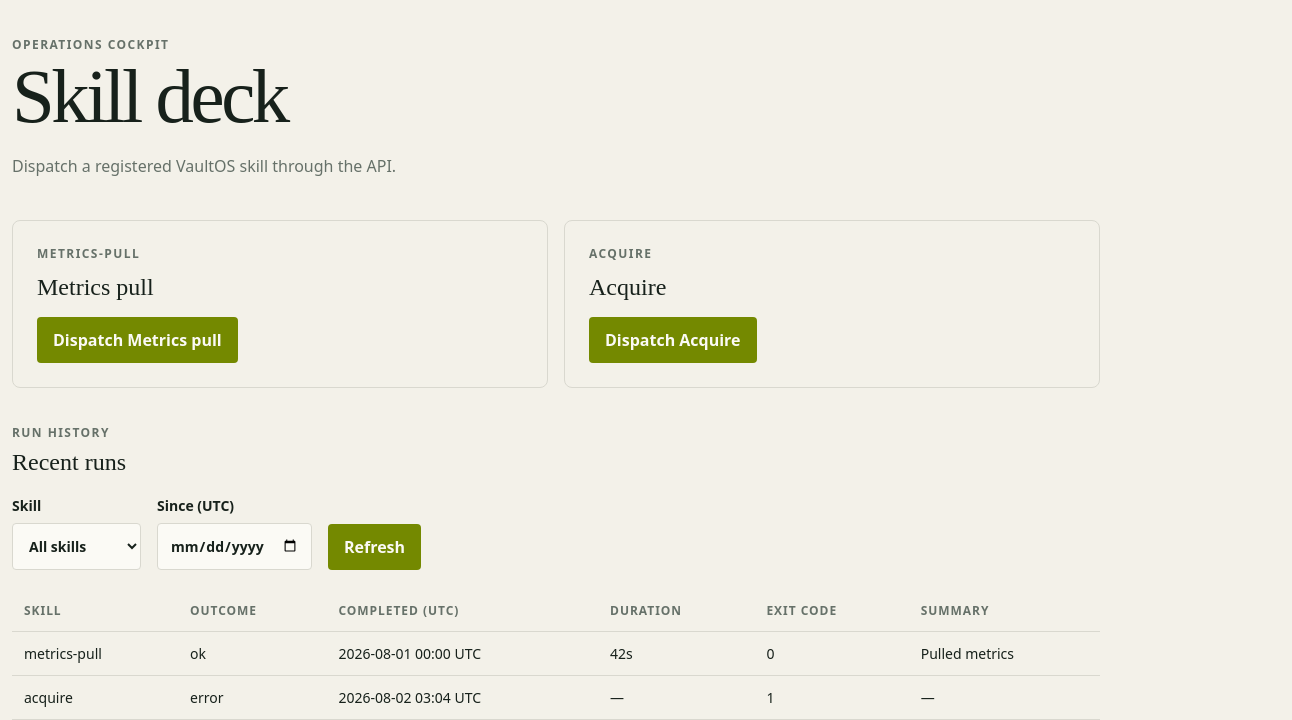
it: Run history panel › acceptance condition 2 — "All skills" omits the skill parameter after a skill was selected
Expected: the number of rows is 3, x1=12 y1=590 x2=1100 y2=631; x1=12 y1=631 x2=1100 y2=675; x1=12 y1=675 x2=1100 y2=719
Select "Metrics pull" in the dropdown labelled "Skill" at (76, 546), box x1=12 y1=522 x2=141 y2=570
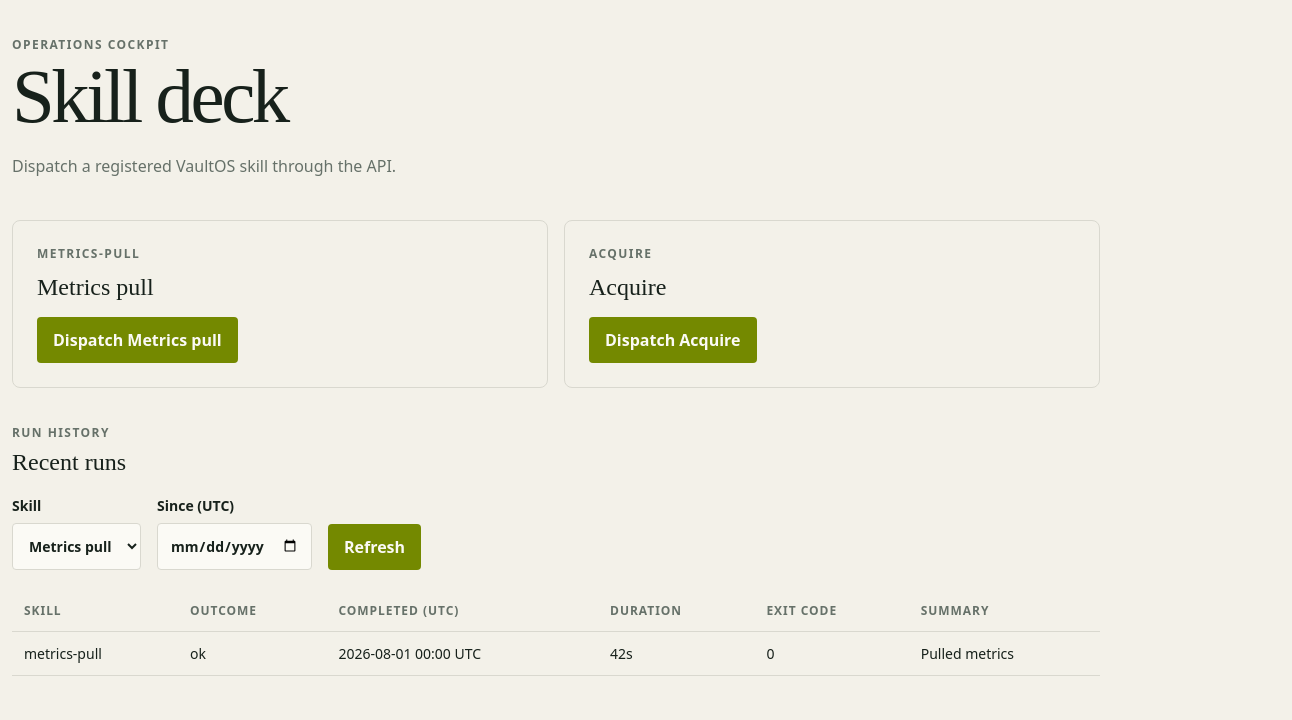
Expected: the number of rows is 2, x1=12 y1=590 x2=1100 y2=631; x1=12 y1=631 x2=1100 y2=675
Select "All skills" in the dropdown labelled "Skill" at (76, 546), box x1=12 y1=522 x2=141 y2=570
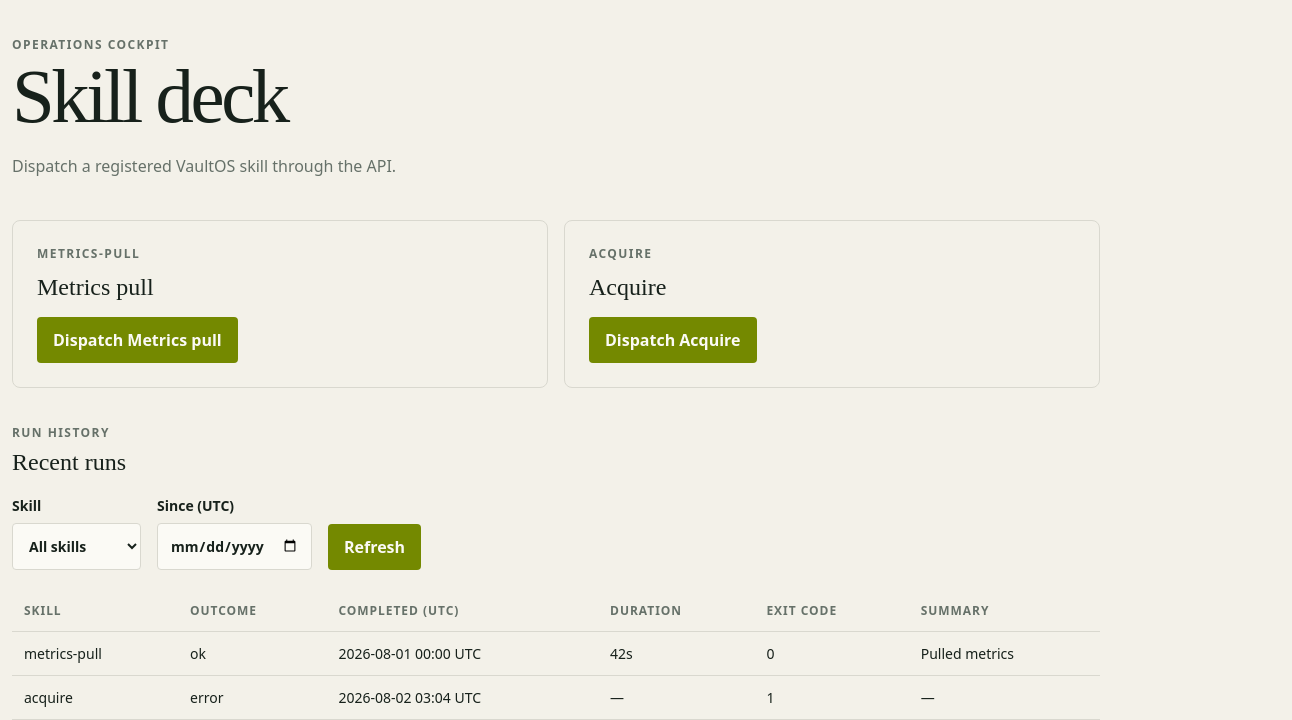
Expected: the text "metrics-pull" is shown, x1=12 y1=631 x2=178 y2=675
Expected: the number of rows is 3, x1=12 y1=590 x2=1100 y2=631; x1=12 y1=631 x2=1100 y2=675; x1=12 y1=675 x2=1100 y2=719
Expected: the text "acquire" is shown, x1=12 y1=675 x2=178 y2=719
